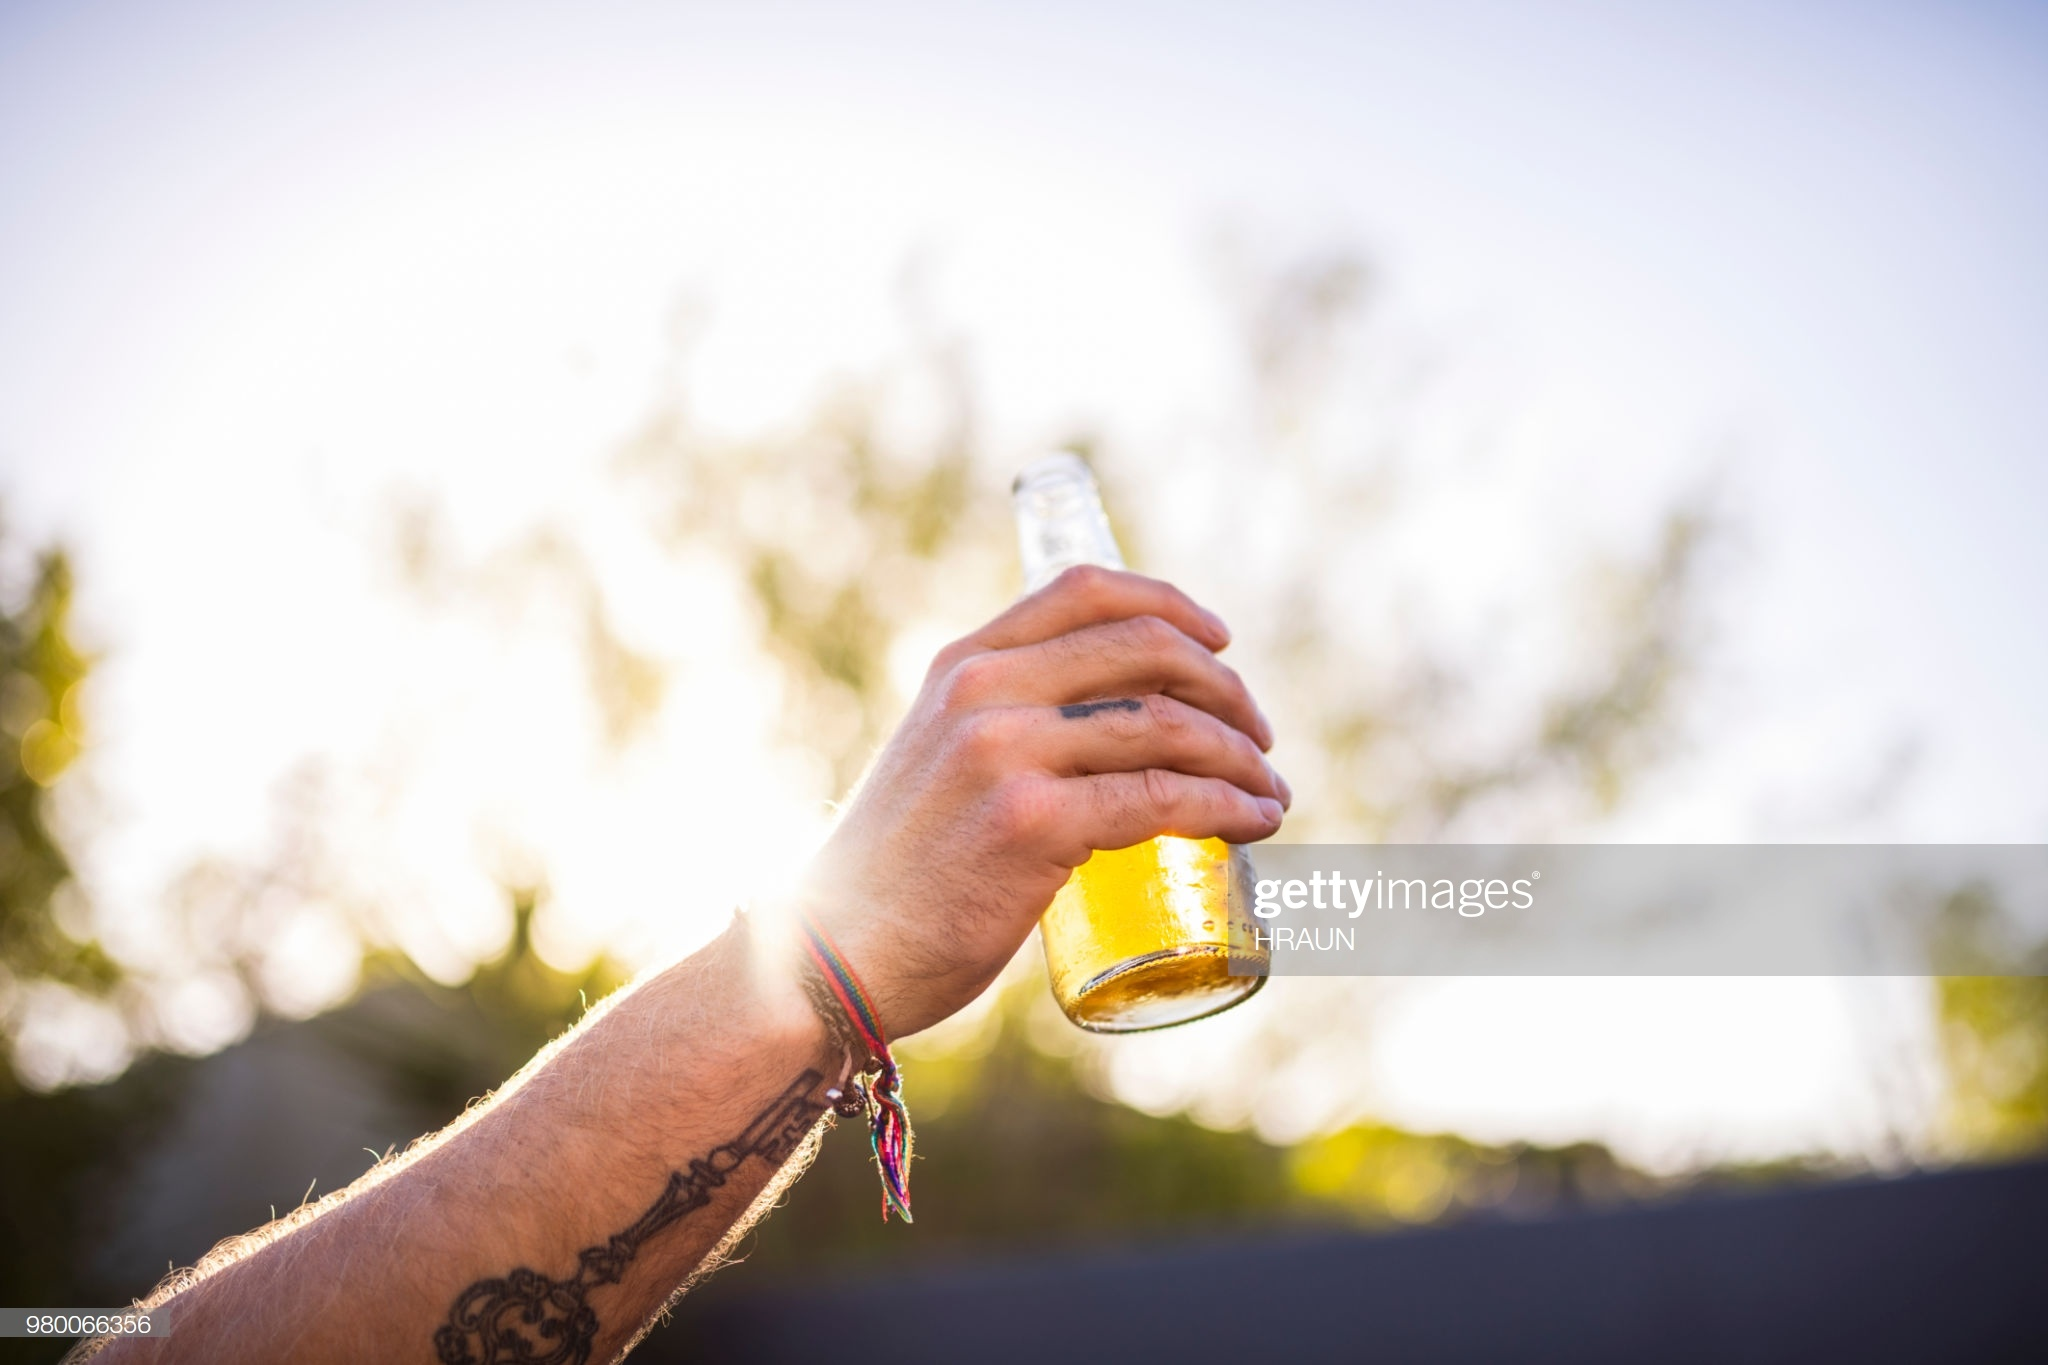beerBottle: (991, 459, 1287, 1034)
